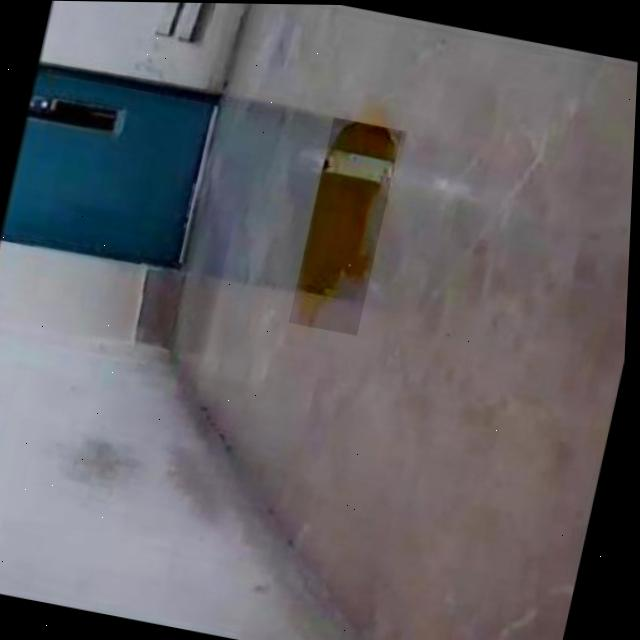spillage: (299, 119, 397, 323)
